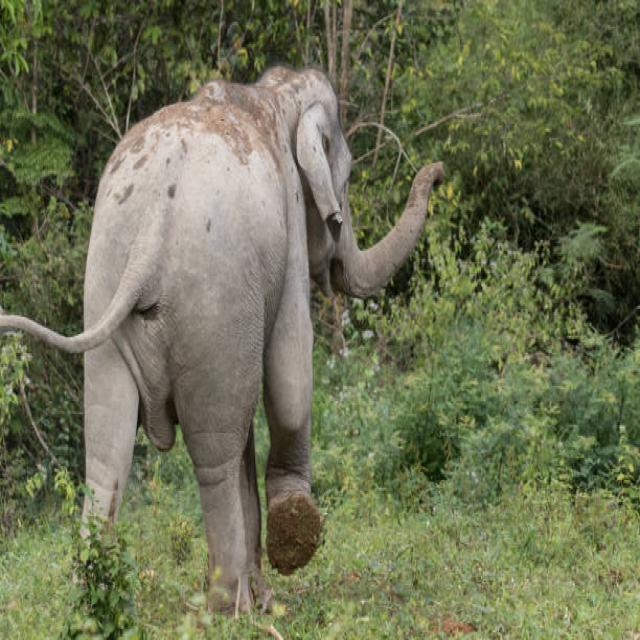Elephant: (36, 41, 442, 620)
